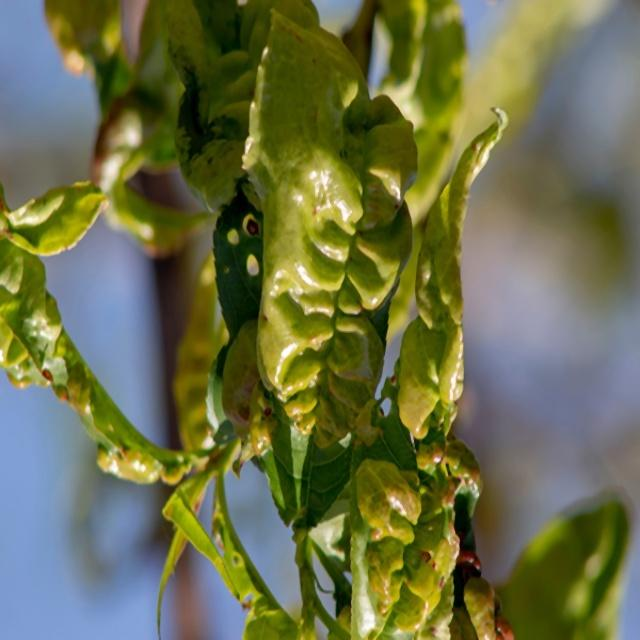leaf_curl: (251, 40, 505, 451), (0, 223, 197, 502), (304, 426, 534, 640)
